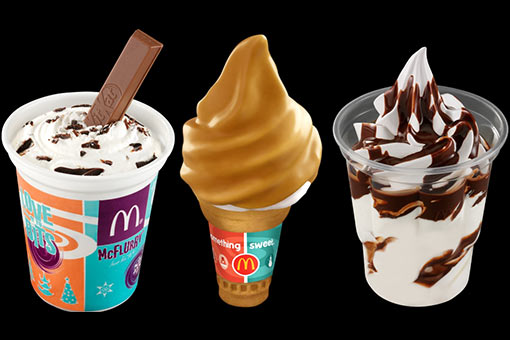mcdonalds: (106, 206, 144, 236), (235, 256, 257, 273)
